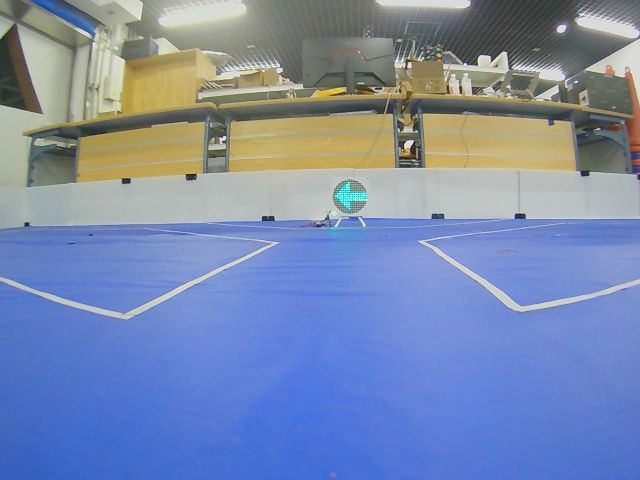left_green: (332, 177, 369, 216)
